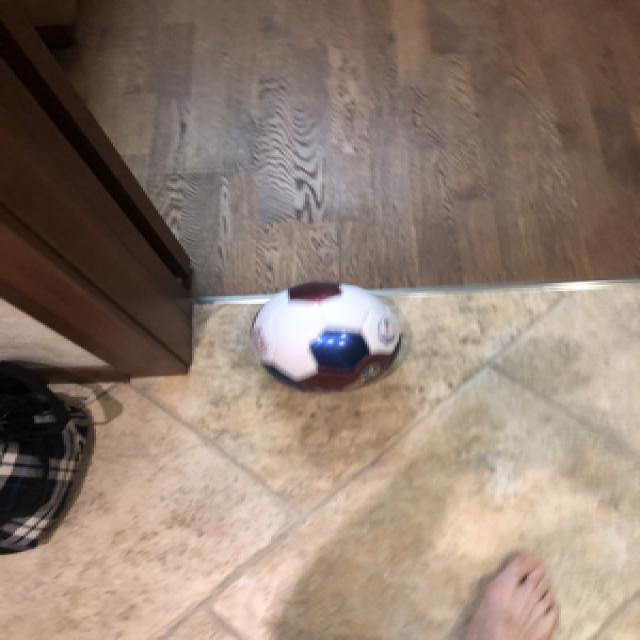soccer_ball: (243, 278, 401, 396)
